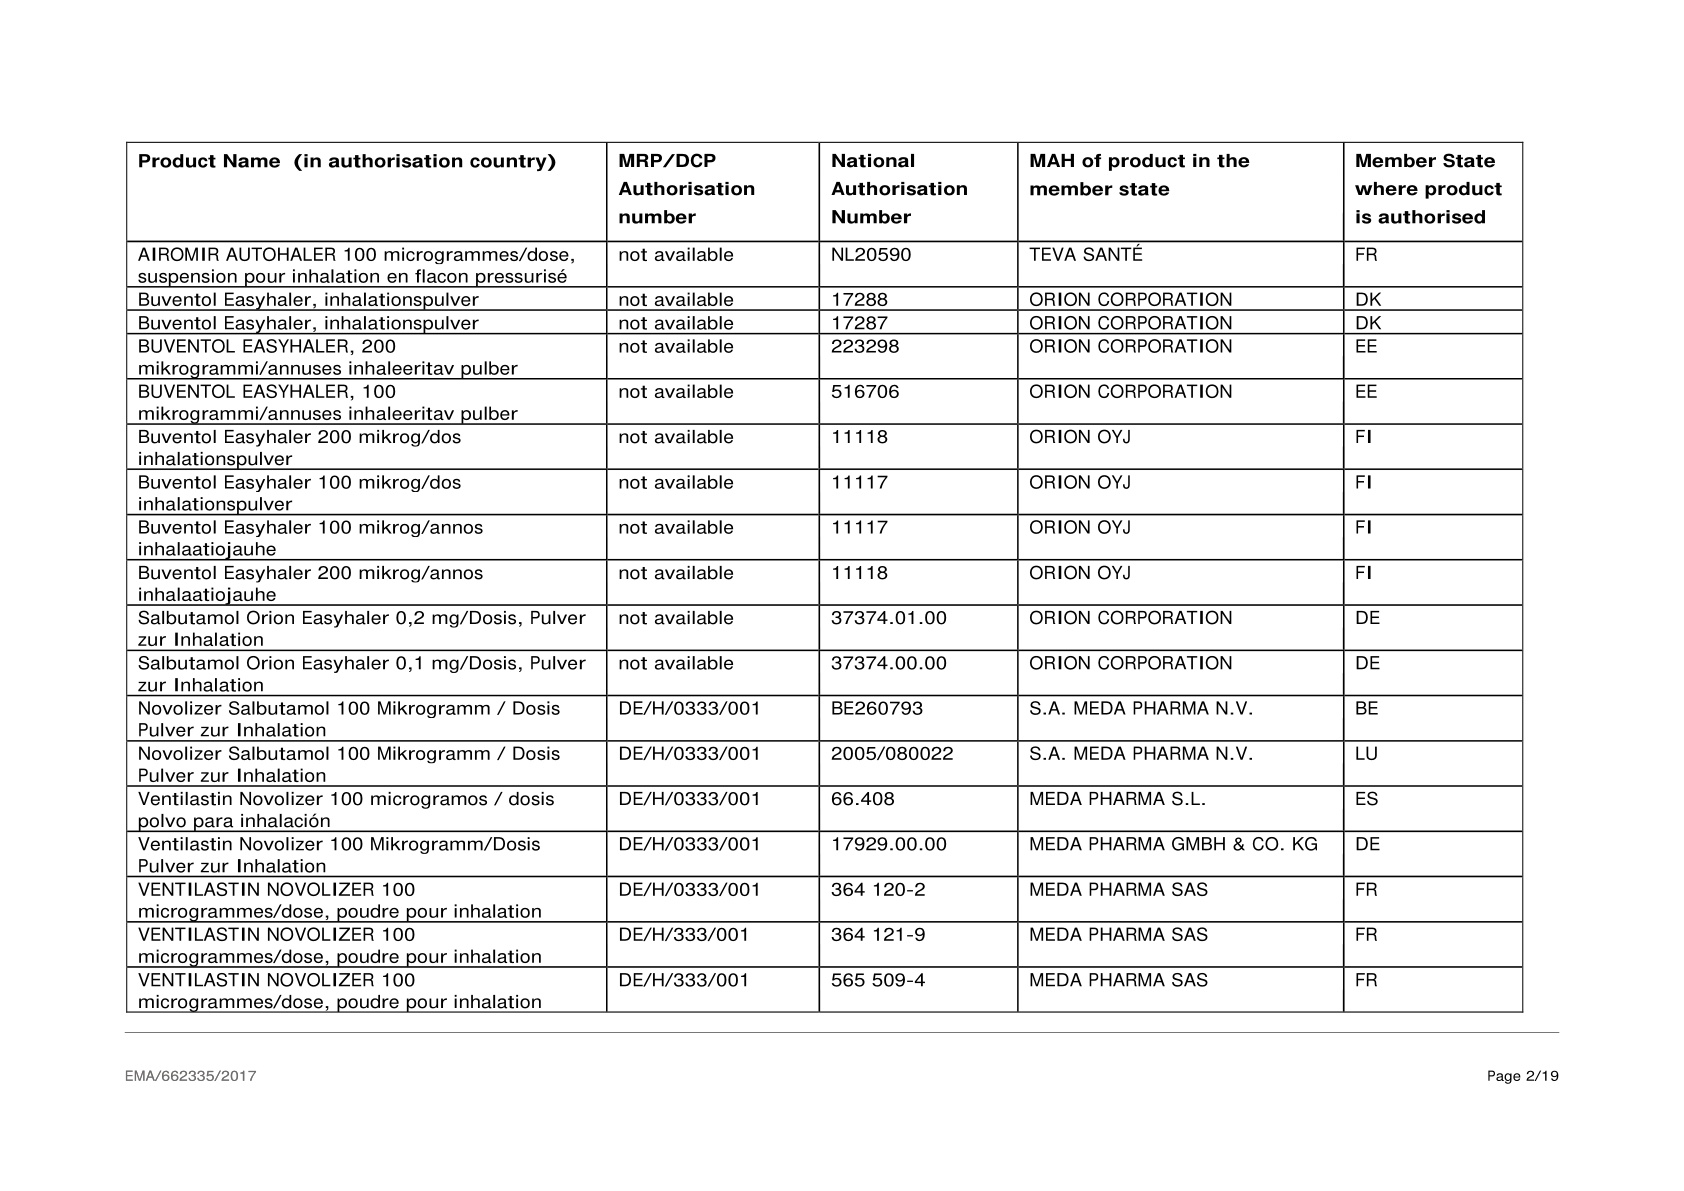full_lined: (122, 137, 1524, 1011)
